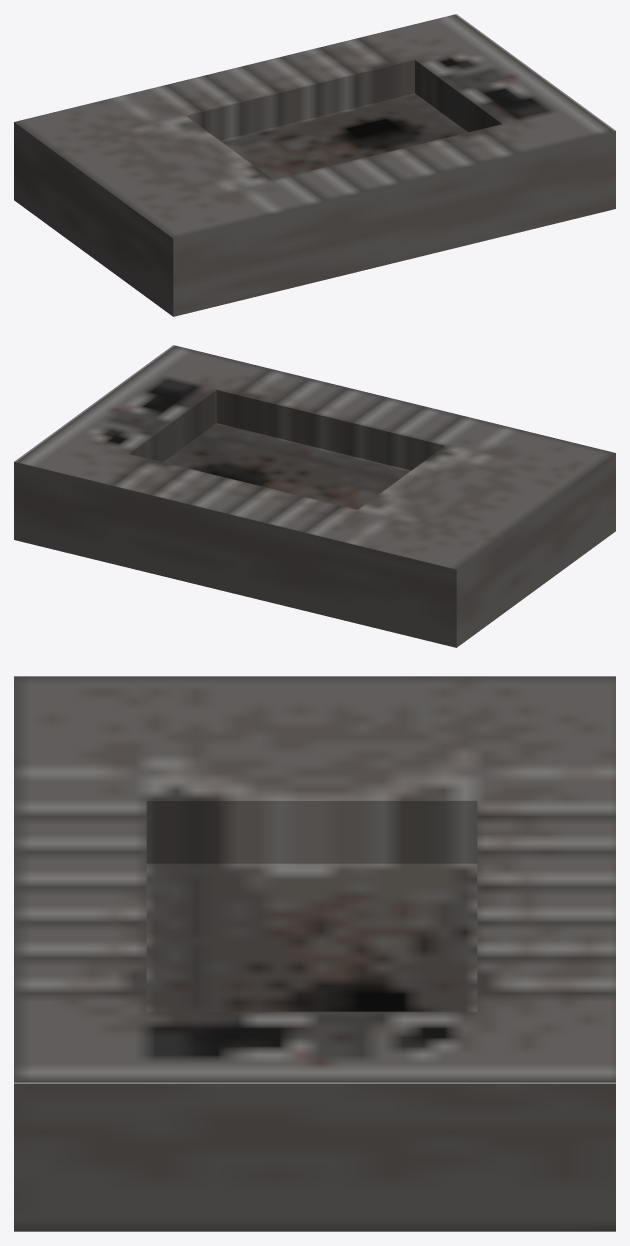
The model's file is Squatter.fbx.
3 renders of one model, top to bottom at view 1: azimuth 30°, elevation 25°; view 2: azimuth 150°, elevation 25°; view 3: azimuth 270°, elevation 25°, orthographic. The views are drawn at different scales.
Visible parts, largest first — view 1: Squatter; view 2: Squatter; view 3: Squatter.
Boxes of the visible parts, x1=… form: Squatter: x1=14, y1=14, x2=615, y2=316; Squatter: x1=14, y1=345, x2=615, y2=647; Squatter: x1=14, y1=676, x2=615, y2=1231.
Bounding box in the file's own units: 0.2975 × 0.0502 × 0.1856.
